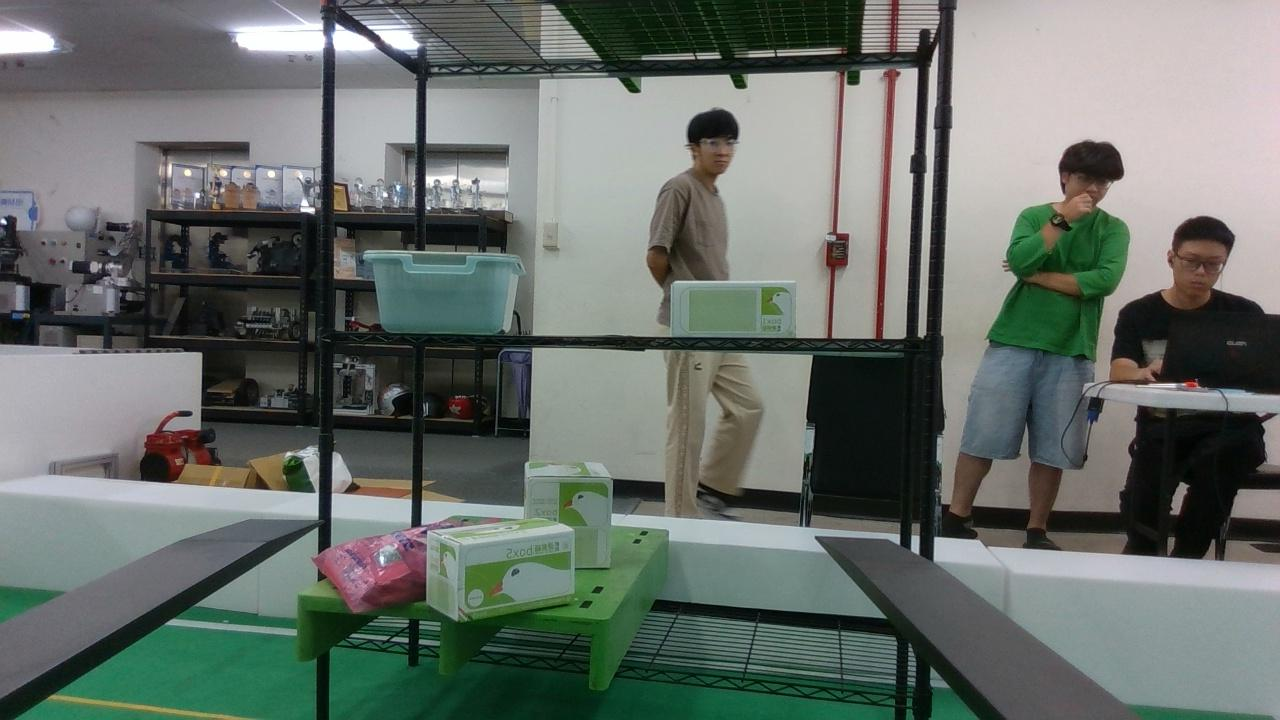Pallet: (297, 591, 607, 693)
